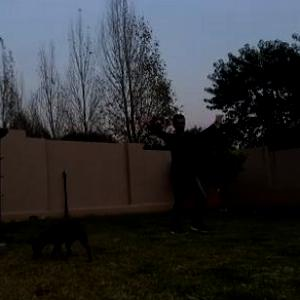takeoff: (115, 111, 225, 231)
